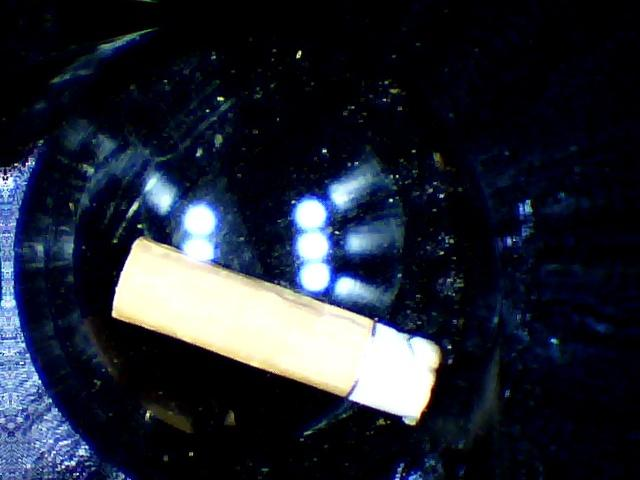megot: (85, 206, 450, 447)
